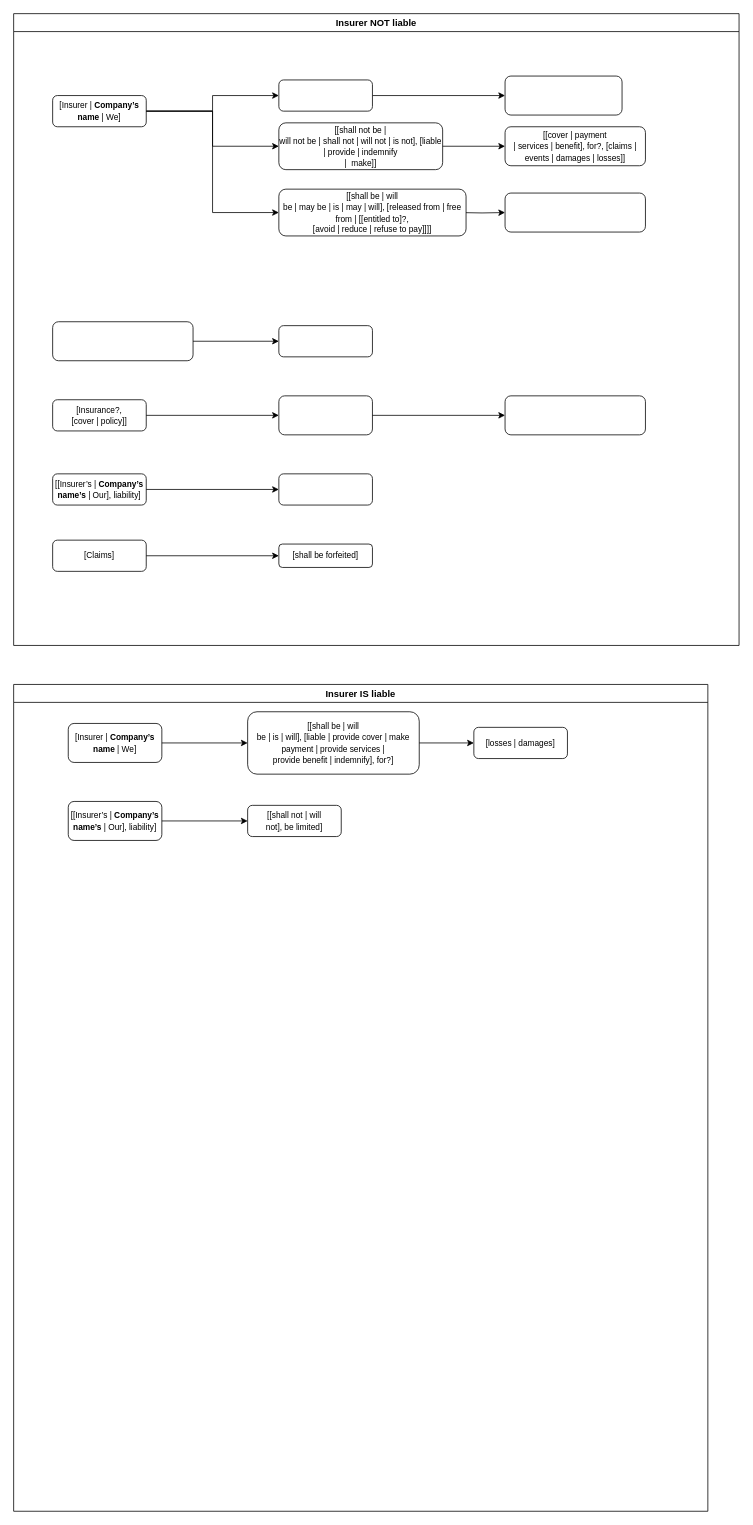
Some shapes in this 753 by 1525 pixel diagram are drawn without their labels. Here are the shapes that lost their labels. From the top down, the centre of each, then its label:
the point at 325,95: [[shall | will | may], reduce]
the point at 563,95: [benefit | indemnity | compensation | amount paid]
the point at 574,212: claims | events | damages | losses | proceedings | costs | expenses
the point at 122,341: [Prior?, [claims | events | damages | losses]]
the point at 325,341: are not covered
the point at 325,415: [[shall not | does not], [apply to | cover | include]]
the point at 574,415: [[prior]?, [claims | events | damages | losses]]
the point at 325,489: [[shall be | will be | may be], limited]
